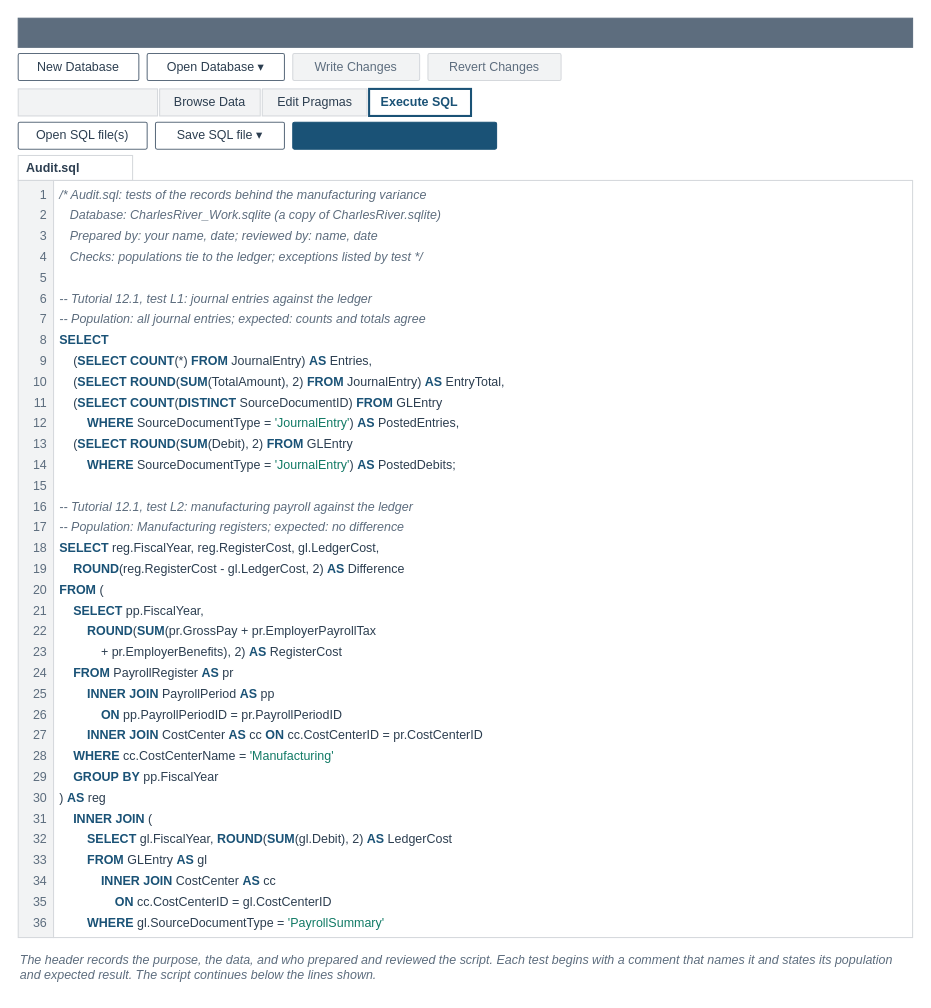
The diagram is 931 pixels wide and 1008 high, and some of its shapes have lost their labels. Each missing label, with the centre of its shape:
Database Structure: the point at 87,102
DB Browser for SQLite - C:\Users\you\Documents\CharlesRiver_Work.sqlite: the point at 465,32
▶ Execute all/selected SQL: the point at 394,135
